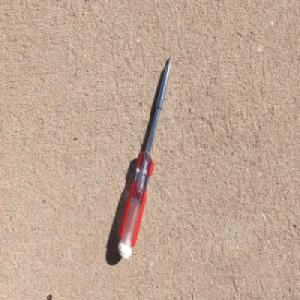Screwdriver: (117, 52, 173, 260)
